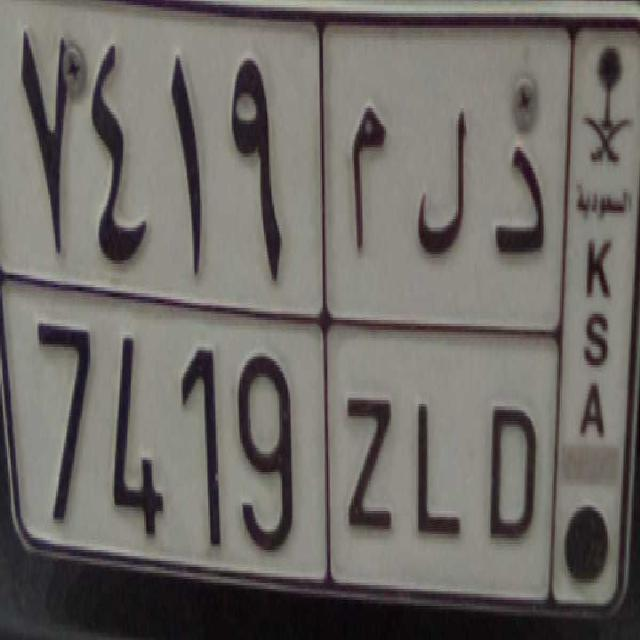license_plate: (0, 263, 557, 618)
